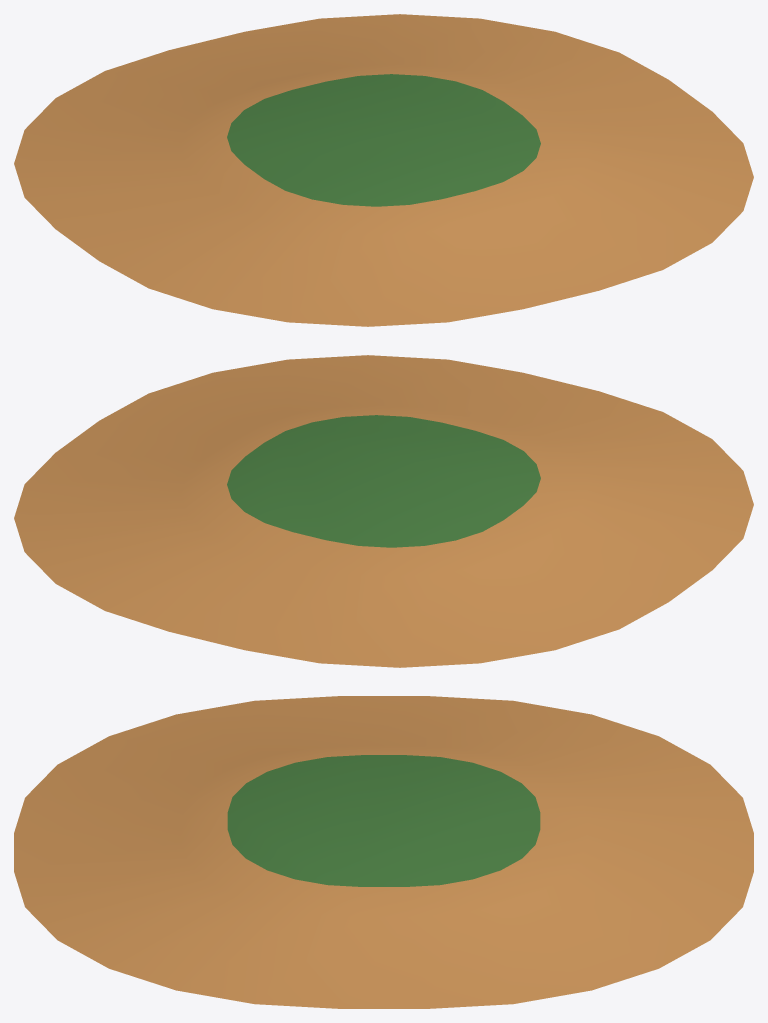
Rendered from island_skatepark.fbx.
The picture shows the model from 3 angles, top to bottom: view 1: azimuth 30°, elevation 25°; view 2: azimuth 150°, elevation 25°; view 3: azimuth 270°, elevation 25°; orthographic projection. The views are drawn at different scales.
Parts seen in each view (by area): view 1: skatepark_island; view 2: skatepark_island; view 3: skatepark_island.
Part boxes in pixels (left/top/right/bottom): skatepark_island: left=14, top=14, right=753, bottom=326; skatepark_island: left=14, top=355, right=753, bottom=667; skatepark_island: left=14, top=696, right=753, bottom=1008.
Bounding box in the file's own units: 572 × 572 × 26.81.
